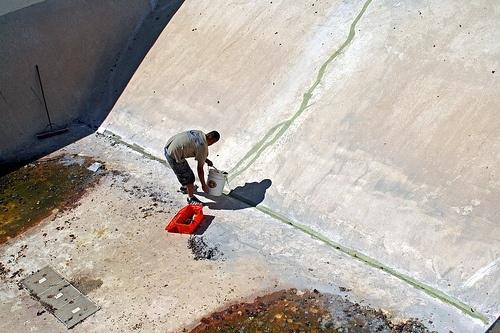Crack: (227, 0, 379, 192)
